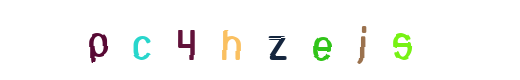4: (214, 0, 294, 80)
C: (100, 0, 180, 80)
E: (237, 0, 317, 80)
H: (220, 0, 300, 80)
J: (281, 0, 361, 80)
P: (98, 0, 178, 80)
S: (356, 0, 436, 80)
Z: (233, 0, 313, 80)
